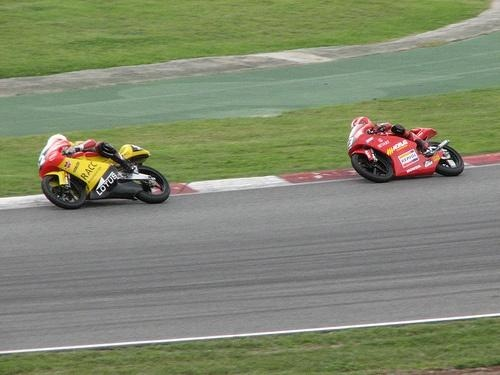motorbike: (37, 141, 172, 210), (349, 124, 466, 182)
